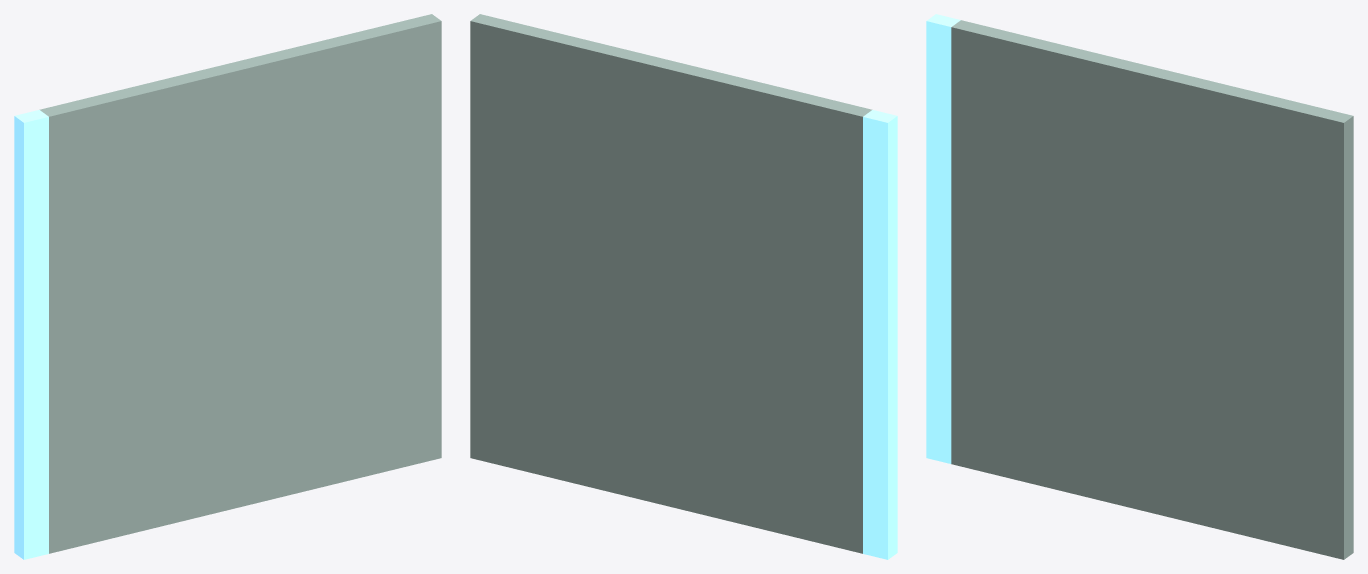
File: Goal_LeafR.gltf
The picture shows the model from 3 angles, left to right: view 1: azimuth 30°, elevation 25°; view 2: azimuth 150°, elevation 25°; view 3: azimuth 330°, elevation 25°; orthographic projection.
Parts seen in each view (by area): view 1: Goal_LeafR_baked; view 2: Goal_LeafR_baked; view 3: Goal_LeafR_baked.
Boxes of the visible parts, x1,y1,x2,y2 form: Goal_LeafR_baked: (14, 14, 441, 559); Goal_LeafR_baked: (470, 14, 897, 559); Goal_LeafR_baked: (926, 14, 1353, 559).
Size of the model in its own units: 1 by 1 by 0.04.
